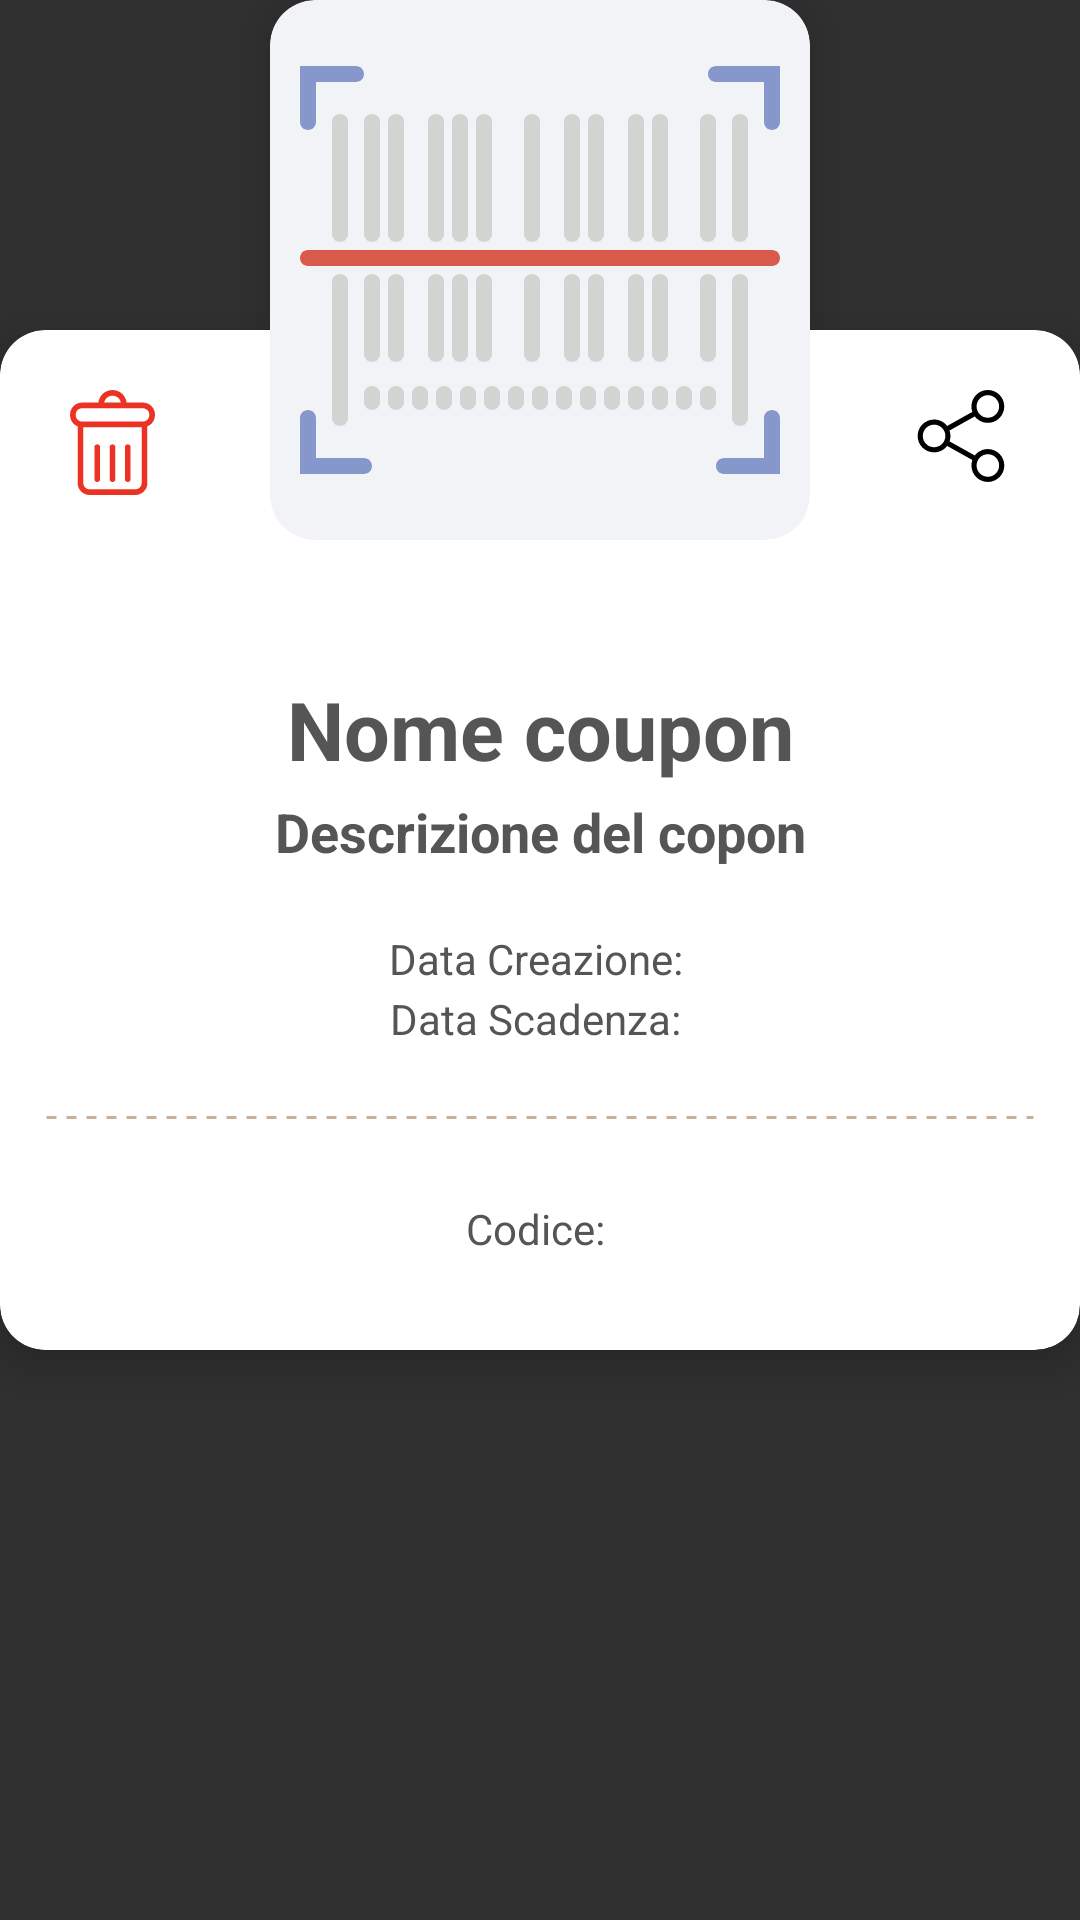

Where icons sit on this 1080w x 1920h app screen, as (x1, y1, x2, y2):
delete: (70, 390, 155, 495)
share: (917, 390, 1005, 482)
